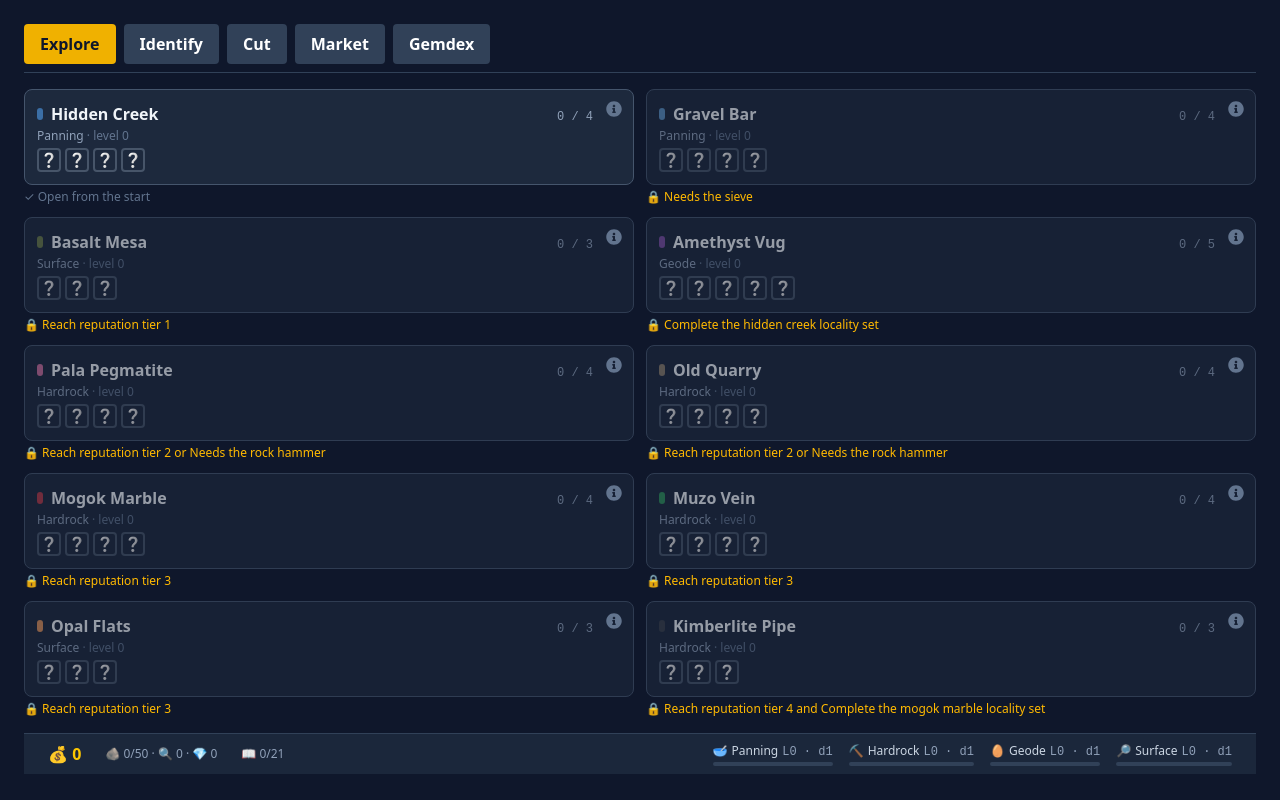
Test case: Explore map and run are separate screens › opens the run screen when a locality is chosen, hiding the map
The image size is (1280, 800).
Click the button with aria-label "Hidden Creek,": (105, 114) x1=24 y1=89 x2=634 y2=185
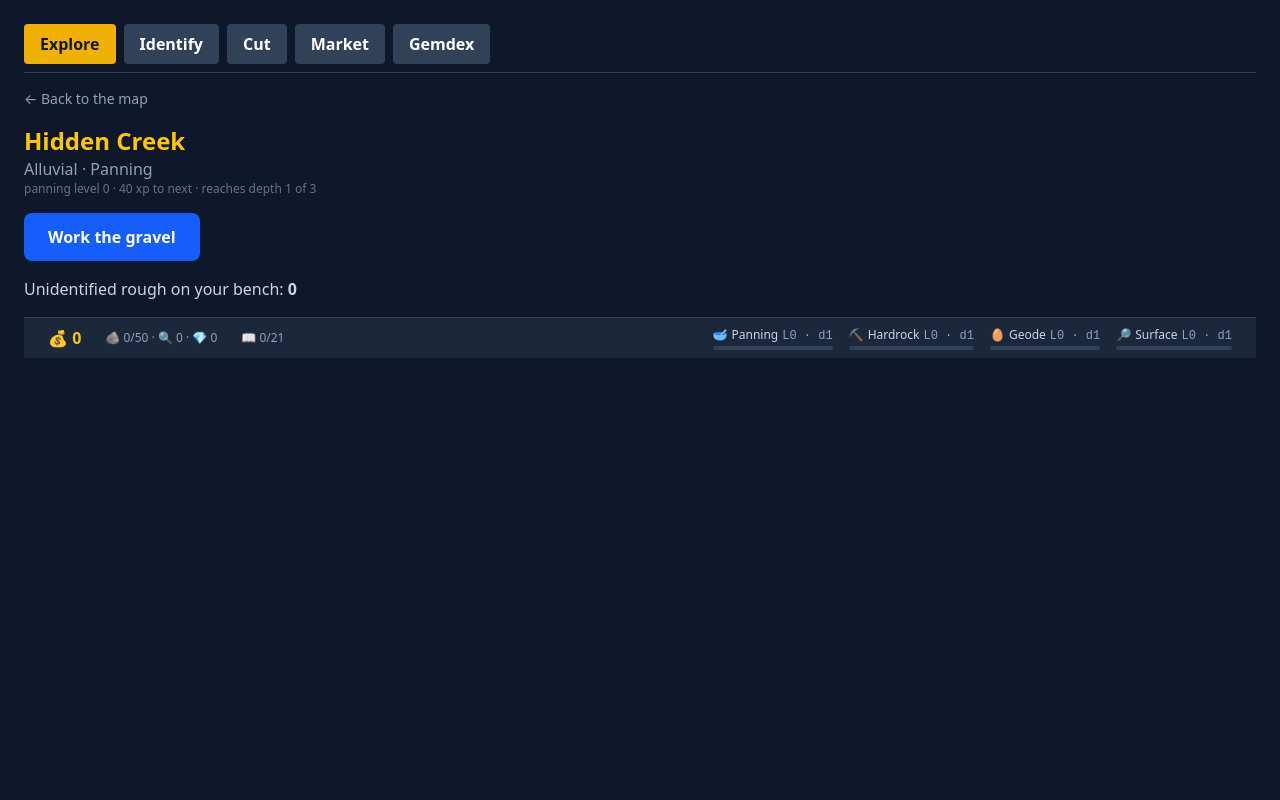
Expected: the button "Work the gravel" is shown, x1=24 y1=213 x2=200 y2=261
Expected: the button "Gravel Bar" is gone
